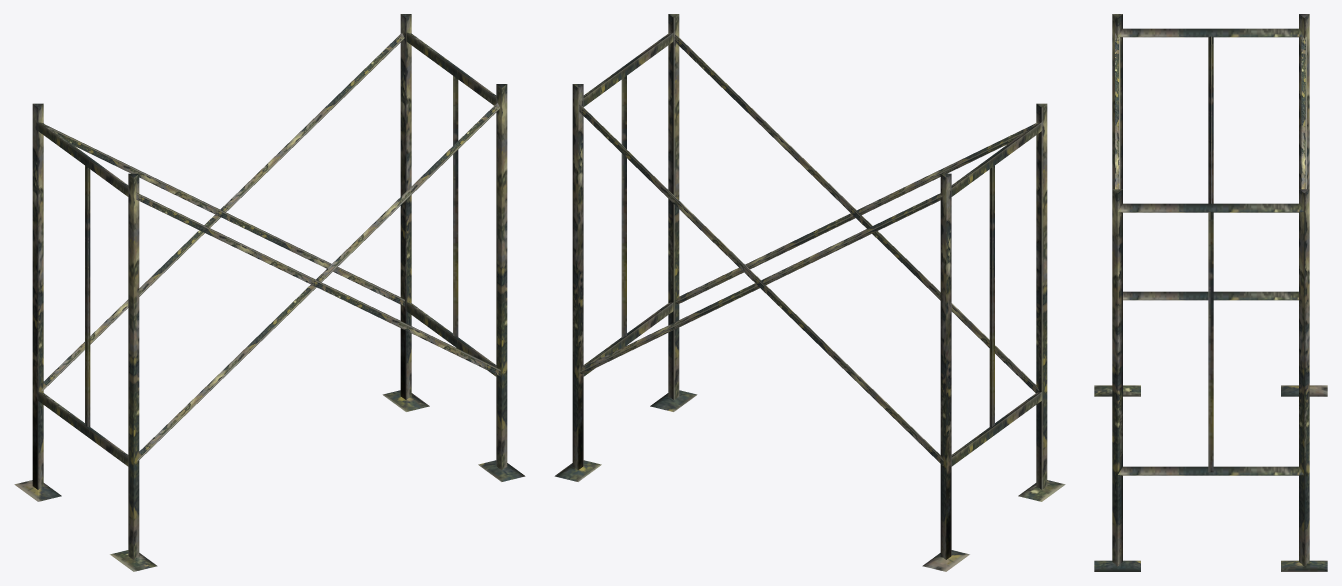
File: fullscaff_bottom.fbx
The picture shows the model from 3 angles, left to right: view 1: azimuth 30°, elevation 25°; view 2: azimuth 150°, elevation 25°; view 3: azimuth 270°, elevation 25°; orthographic projection. The views are drawn at different scales.
Parts seen in each view (by area): view 1: mesh_0; view 2: mesh_0; view 3: mesh_0.
Boxes of the visible parts, x1,y1,x2,y2 form: mesh_0: (14,14,525,571); mesh_0: (554,14,1065,571); mesh_0: (1094,14,1327,571).
Bounding box in the file's own units: 426 × 400 × 225.
1 material, 1 textured.
